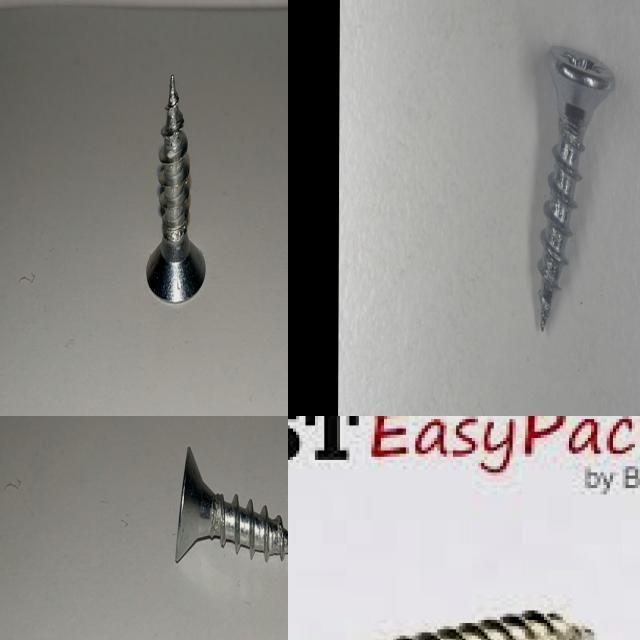Screw: (539, 45, 615, 330), (146, 73, 206, 302), (176, 445, 288, 561)
